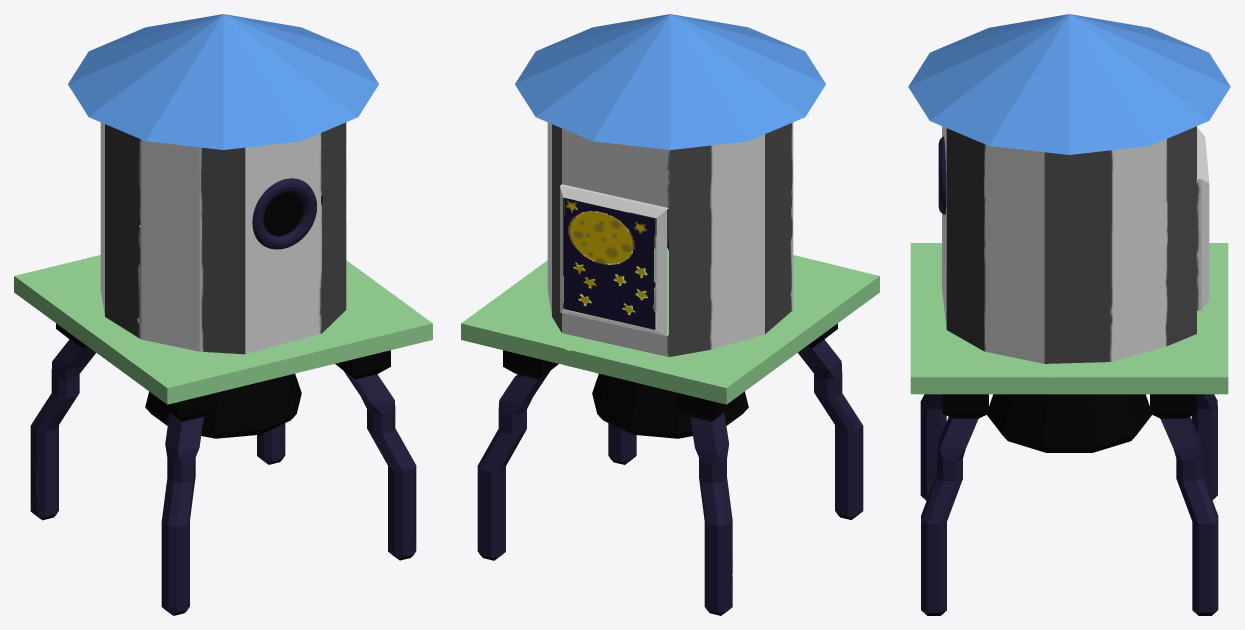
The model's file is Spaceship.fbx.
The picture shows the model from 3 angles, left to right: view 1: azimuth 30°, elevation 25°; view 2: azimuth 150°, elevation 25°; view 3: azimuth 270°, elevation 25°; orthographic projection. The views are drawn at different scales.
Parts seen in each view (by area): view 1: Spaceship; view 2: Spaceship; view 3: Spaceship.
Part boxes in pixels (x1=…): Spaceship: x1=14, y1=14, x2=432, y2=615; Spaceship: x1=461, y1=14, x2=879, y2=615; Spaceship: x1=908, y1=14, x2=1230, y2=615.
Bounding box in the file's own units: 249 × 461 × 249.
